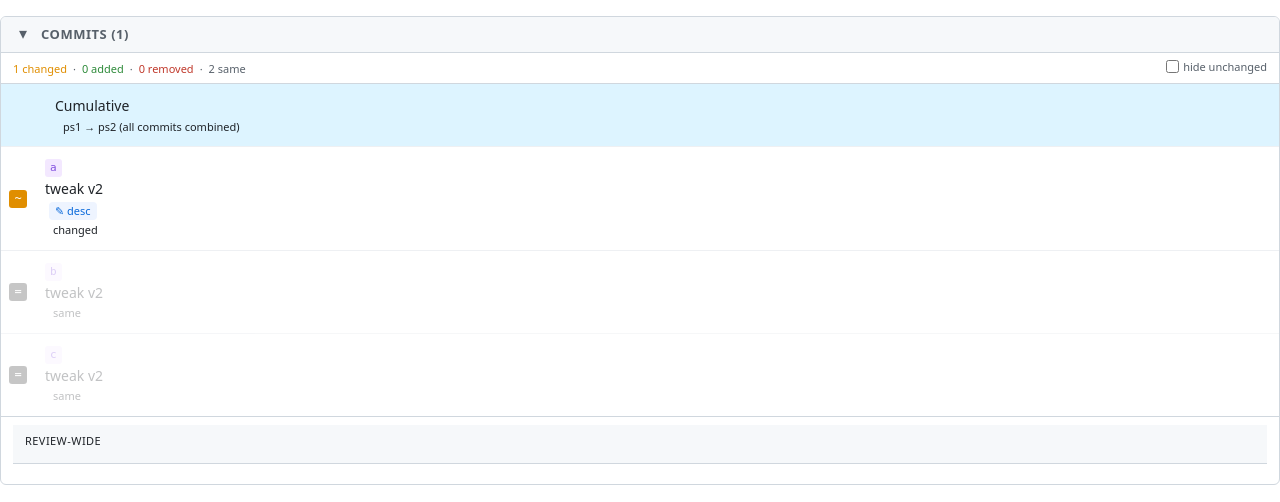
CommitsPanel — compare mode › hide-same toggle filters status=same rows
This screenshot has width=1280, height=502.
Check: the number of list items is 4, box [1, 84, 1279, 148]; [1, 148, 1279, 251]; [1, 251, 1279, 334]; [1, 334, 1279, 416]
Click the checkbox labelled "hide unchanged": (1173, 67) [1166, 60, 1179, 73]
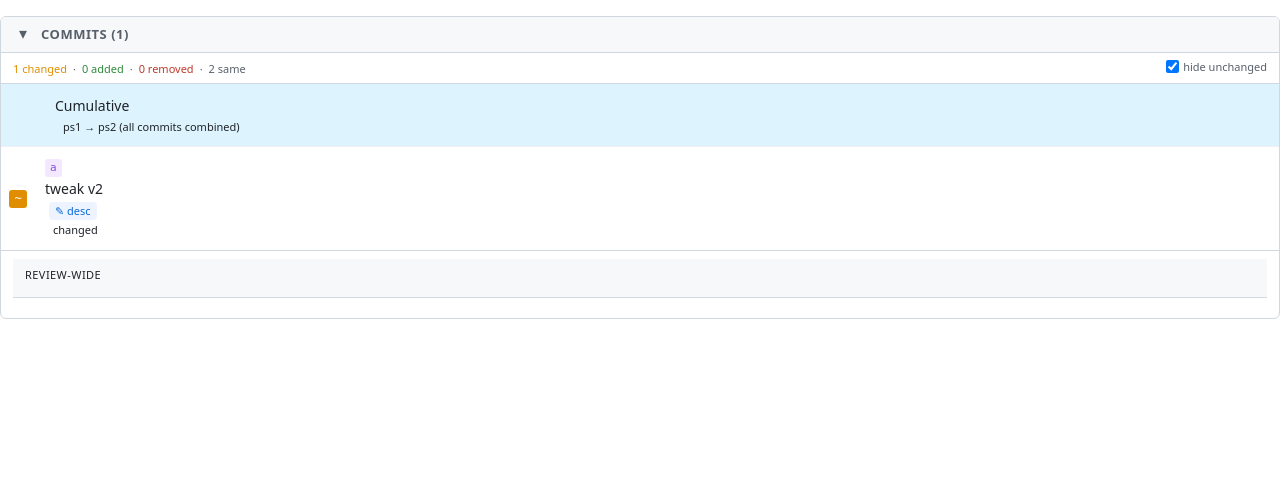
Check: the number of list items is 2, box [1, 84, 1279, 148]; [1, 148, 1279, 250]
